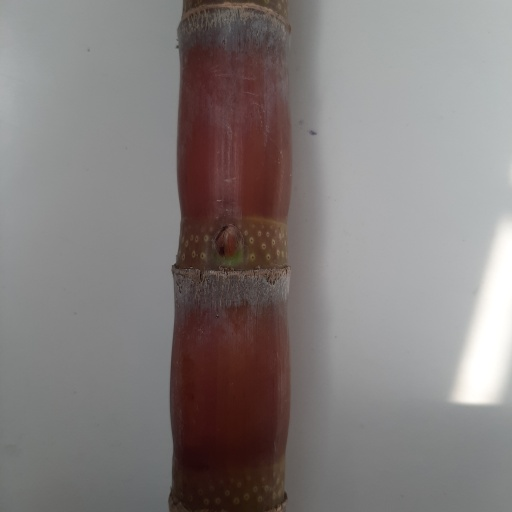Bud: (215, 221, 246, 262)
